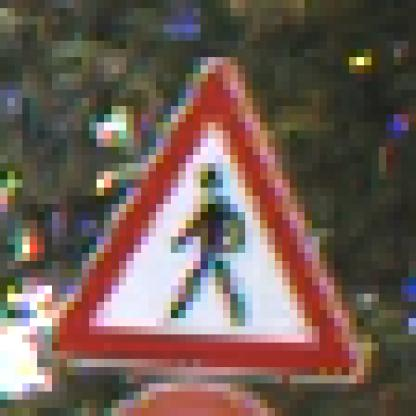crosswalk: (44, 48, 379, 394)
